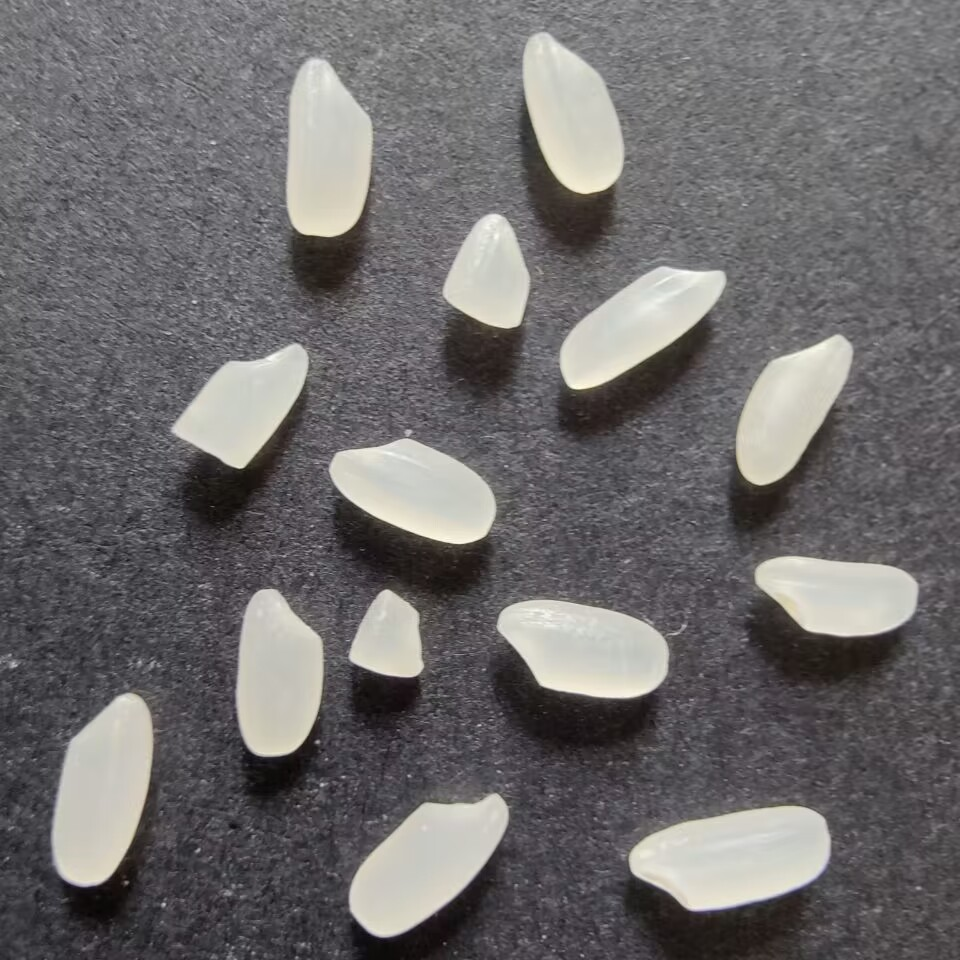broken: (167, 335, 310, 474), (437, 207, 540, 338), (339, 586, 435, 684)
rice: (342, 786, 515, 941), (553, 259, 735, 394), (624, 800, 838, 913), (46, 688, 157, 892), (730, 329, 860, 492), (488, 596, 677, 705), (514, 29, 631, 200), (323, 436, 499, 549), (282, 50, 380, 244), (751, 550, 927, 642), (234, 586, 328, 758)
